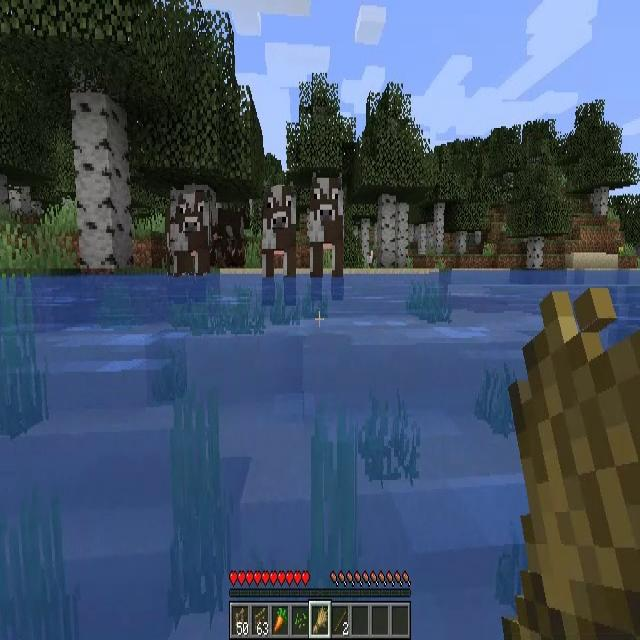cow: (310, 177, 344, 278), (170, 190, 210, 273), (262, 186, 296, 282)
